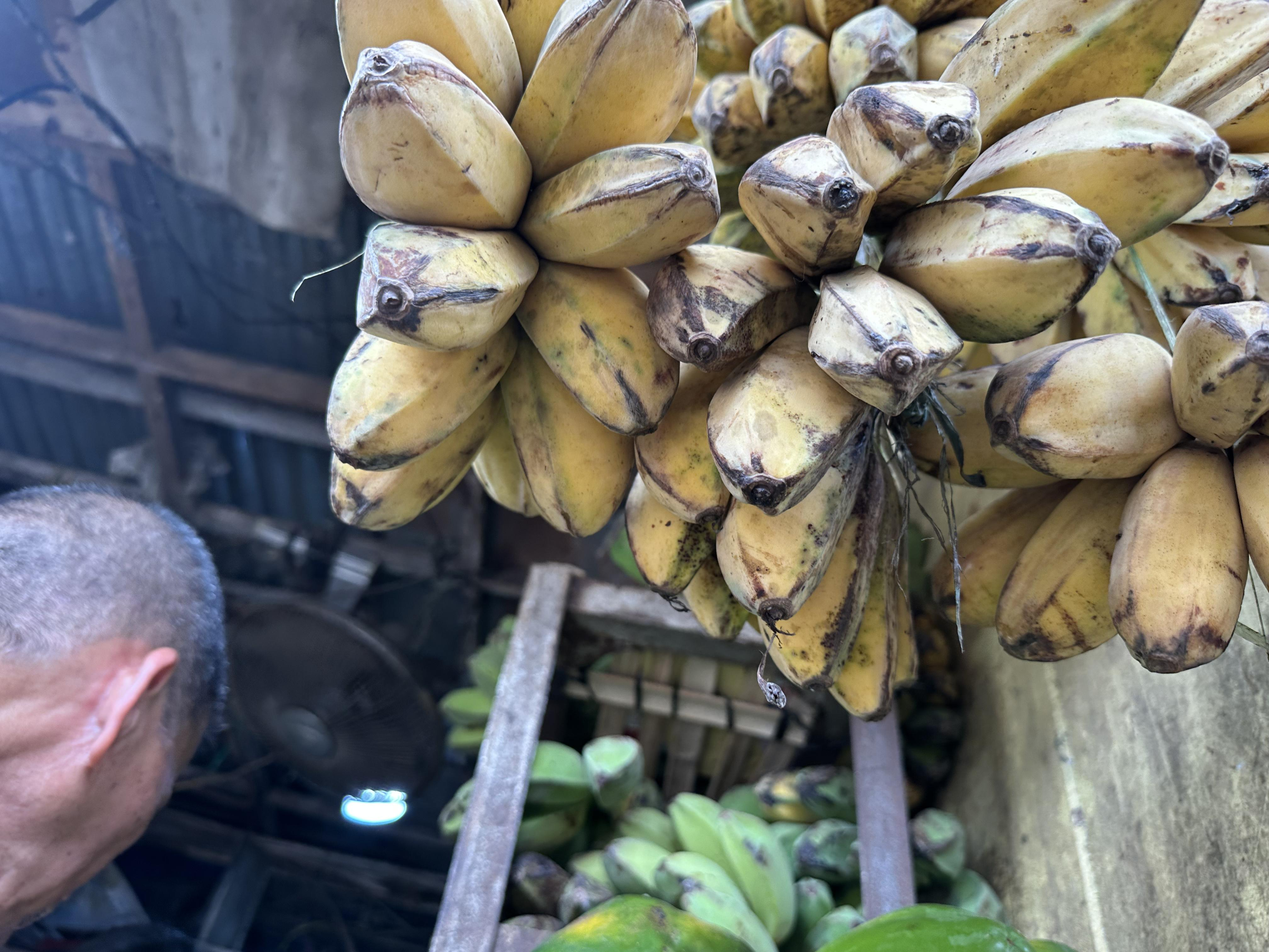ripe: (327, 0, 719, 536), (907, 302, 1269, 673), (671, 0, 1004, 255)
underripe: (626, 0, 1230, 720)
